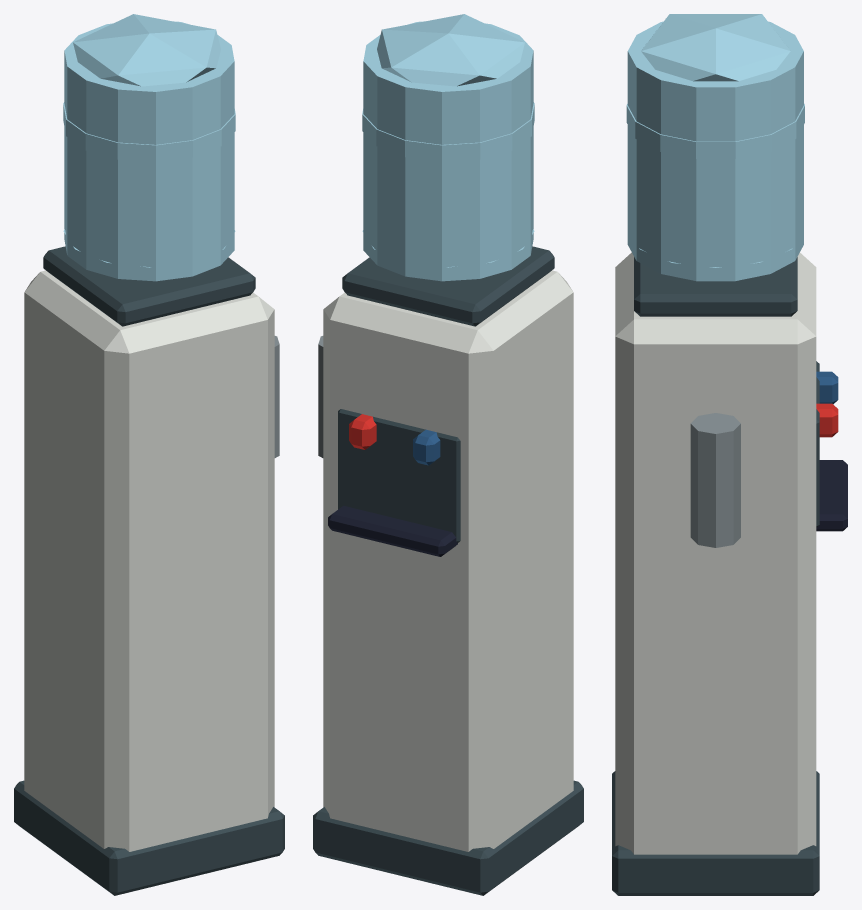
Rendered from sm_env_depot_water_dispenser.glb.
3 renders of one model, left to right at view 1: azimuth 30°, elevation 25°; view 2: azimuth 150°, elevation 25°; view 3: azimuth 270°, elevation 25°, orthographic. The views are drawn at different scales.
Parts seen in each view (by area): view 1: Body, Bottle, Base, BottleTop, Collar, BottleRing, CupHolder; view 2: Body, Bottle, Base, Recess, BottleTop, Collar, DripTray, BottleRing, Tap, Tap.001, CupHolder; view 3: Body, Bottle, Base, BottleTop, Collar, CupHolder, BottleRing, DripTray, Tap.001, Tap, Recess.
Part boxes in pixels (x1,y1,x2,y2): Body: (24,270,274,851); Bottle: (64,21,234,281); Base: (14,780,284,895); BottleTop: (73,14,220,86); Collar: (43,246,255,326); BottleRing: (63,102,235,161); CupHolder: (274,336,279,457); Body: (323,270,573,851); Bottle: (363,21,533,281); Base: (313,780,583,895); Recess: (338,409,460,542); BottleTop: (377,14,524,86); Collar: (342,246,554,326); DripTray: (328,505,457,556); BottleRing: (362,102,534,161); Tap: (413,429,440,465); Tap.001: (349,414,376,449); CupHolder: (318,336,323,457); Body: (615,252,816,854); Bottle: (627,21,803,281); Base: (612,771,819,895); BottleTop: (641,14,790,81); Collar: (634,257,797,316); CupHolder: (690,413,740,547); BottleRing: (626,103,804,158); DripTray: (816,460,847,531); Tap.001: (816,403,838,437); Tap: (816,371,838,404); Recess: (816,361,819,527).
Size of the model in its own units: 0.405 by 1.45 by 0.375.
